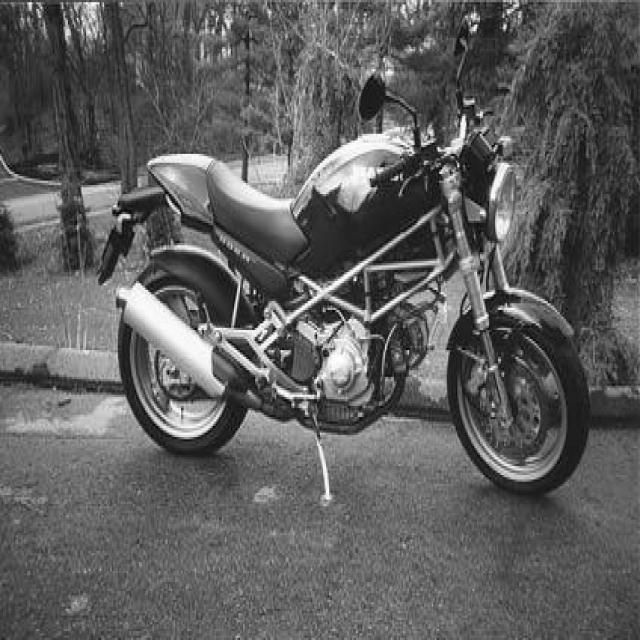Motorcycle: (98, 74, 592, 498)
